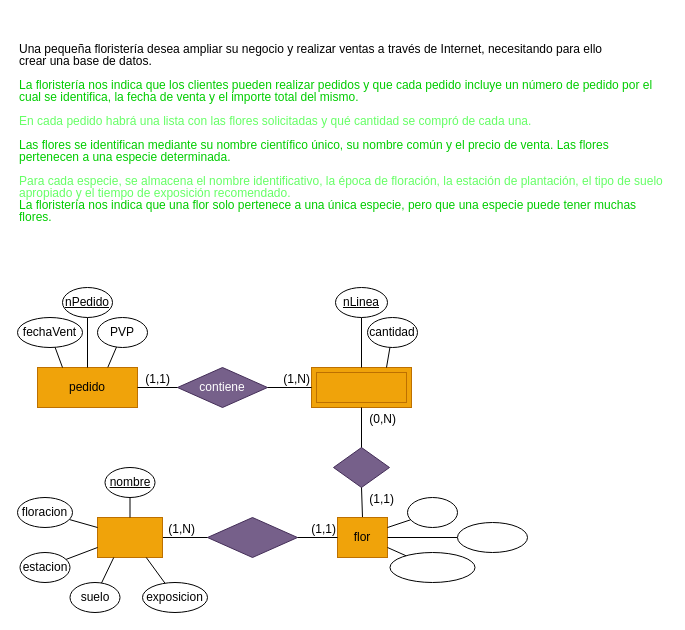
The diagram is 685 pixels wide and 630 high, and some of its shapes have lost their labels. Here are the shapes that lost their labels. From the top down, the centre of each, then its label:
pixel 361 387: lineaPedido
pixel 361 467: tiene
pixel 432 512: precio
pixel 129 537: especie
pixel 252 537: pertenece
pixel 492 537: nombreFlor
pixel 432 567: nombreCIient
